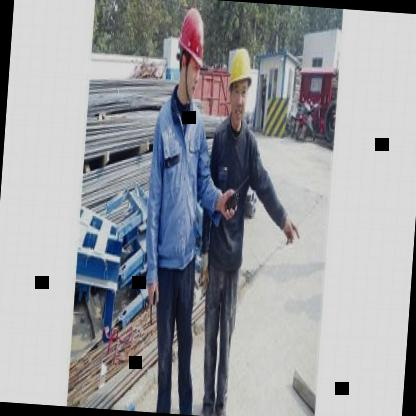helmet: (172, 6, 206, 101), (222, 42, 257, 126)
